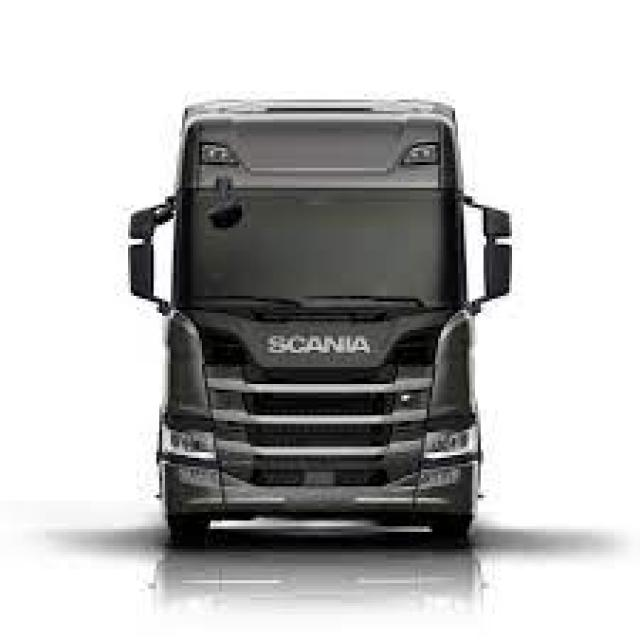Heavy Duty Truck: (128, 99, 512, 552)
